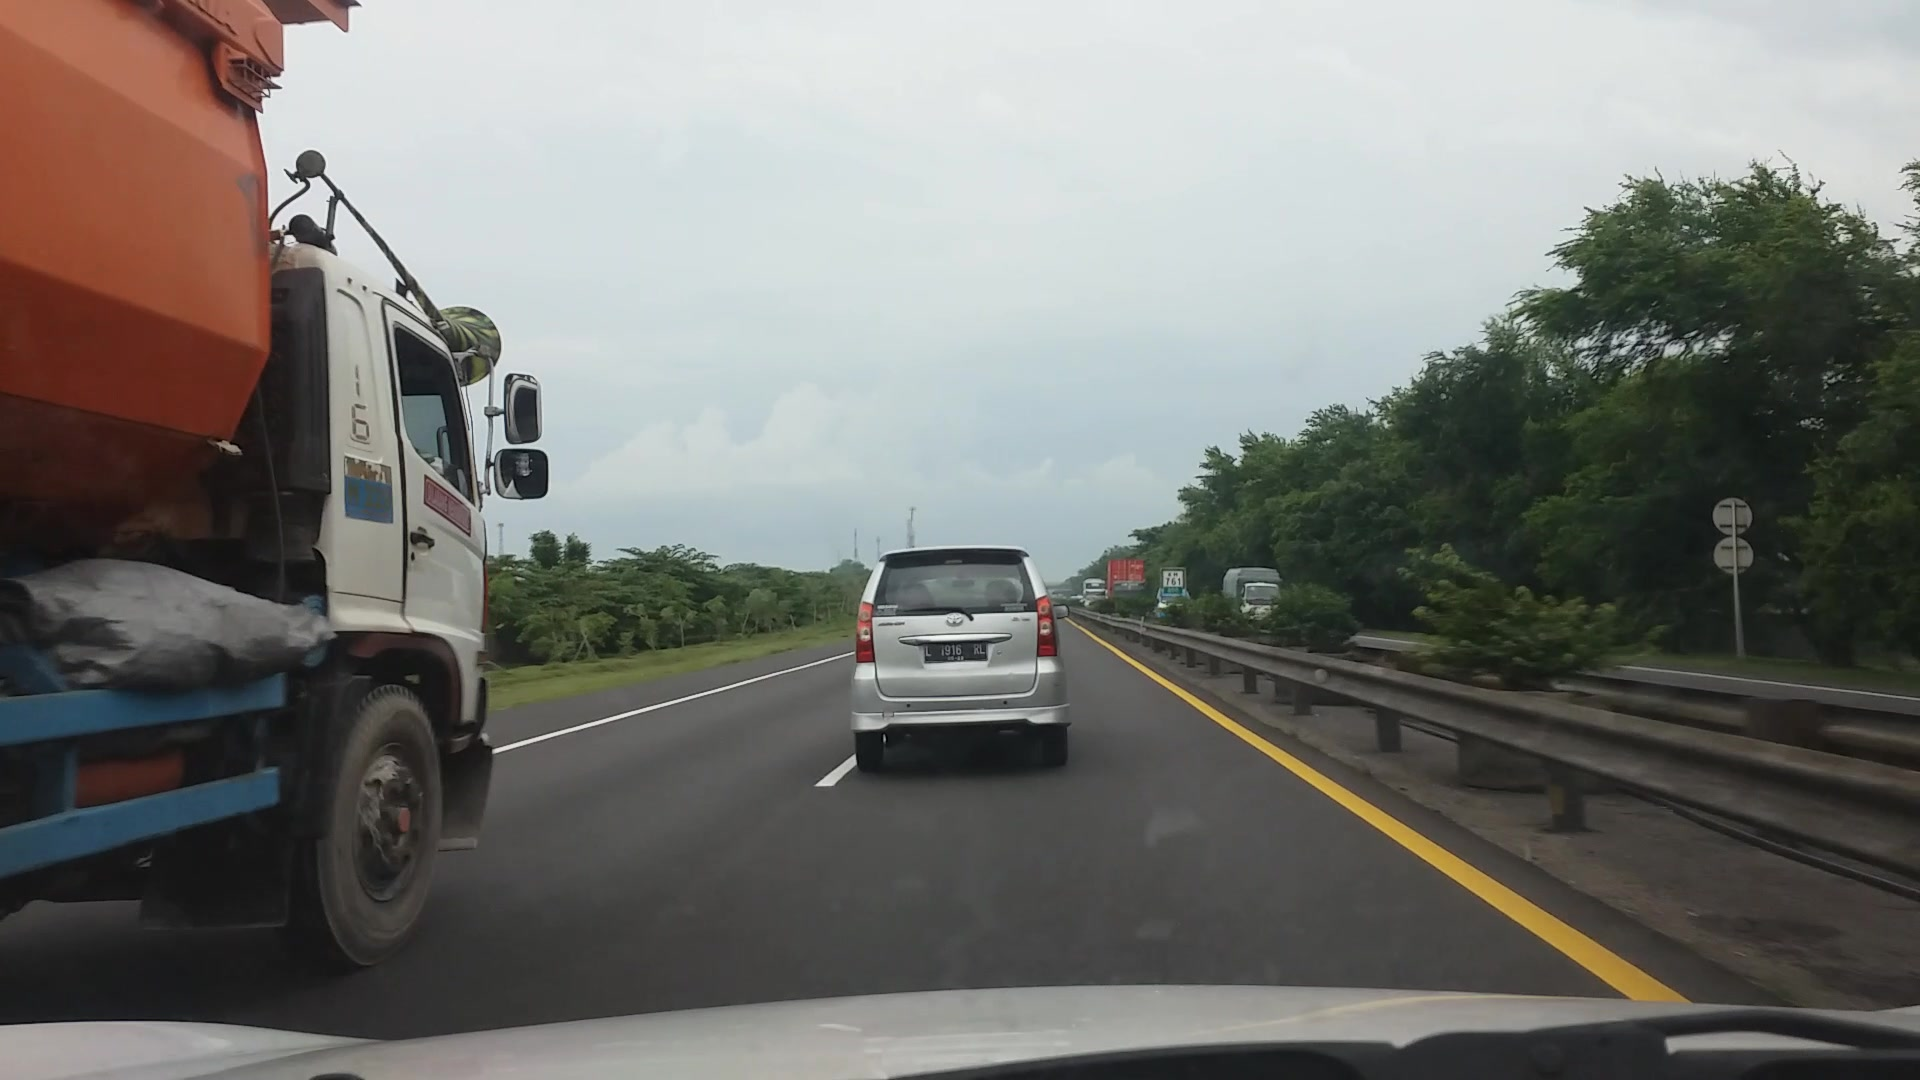plate_positive: (924, 641, 986, 662)
